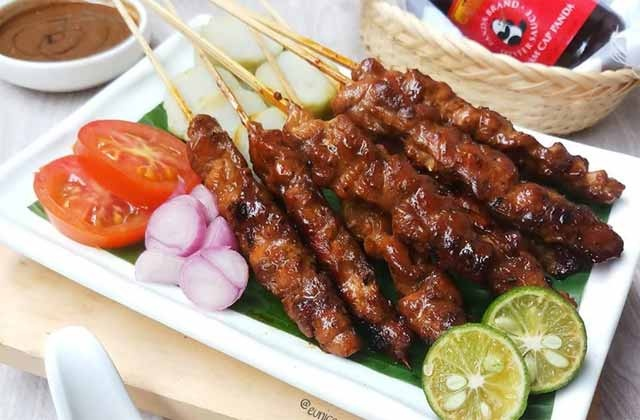sate: (161, 50, 625, 359)
